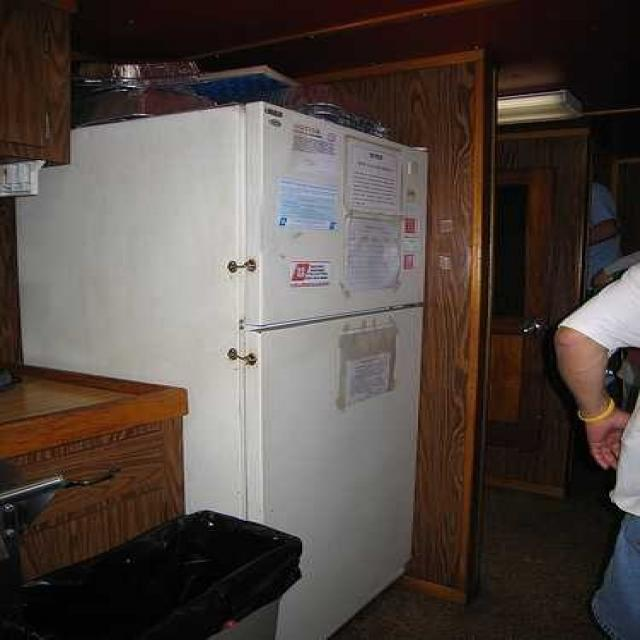refrigerator: (239, 100, 433, 640)
